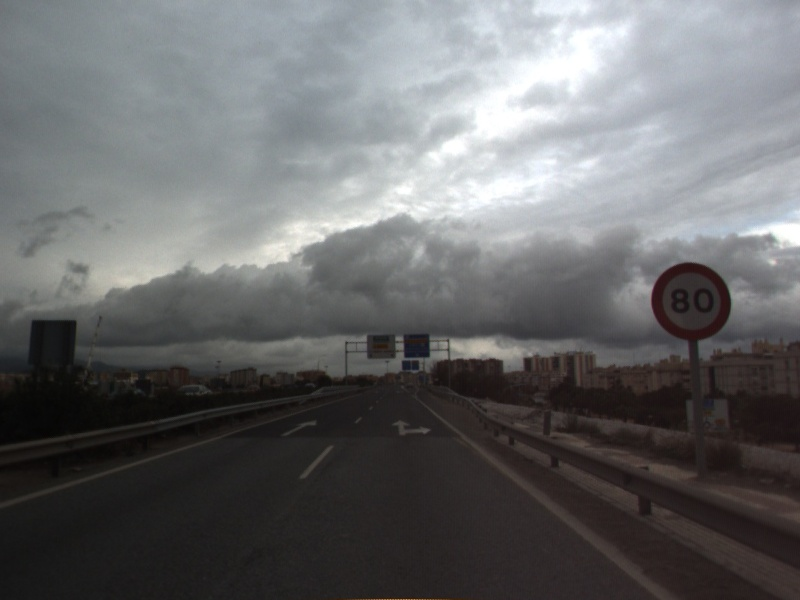STRAIGHT: (279, 417, 319, 438)
STRAIGHT_RIGHT: (389, 417, 434, 438)
